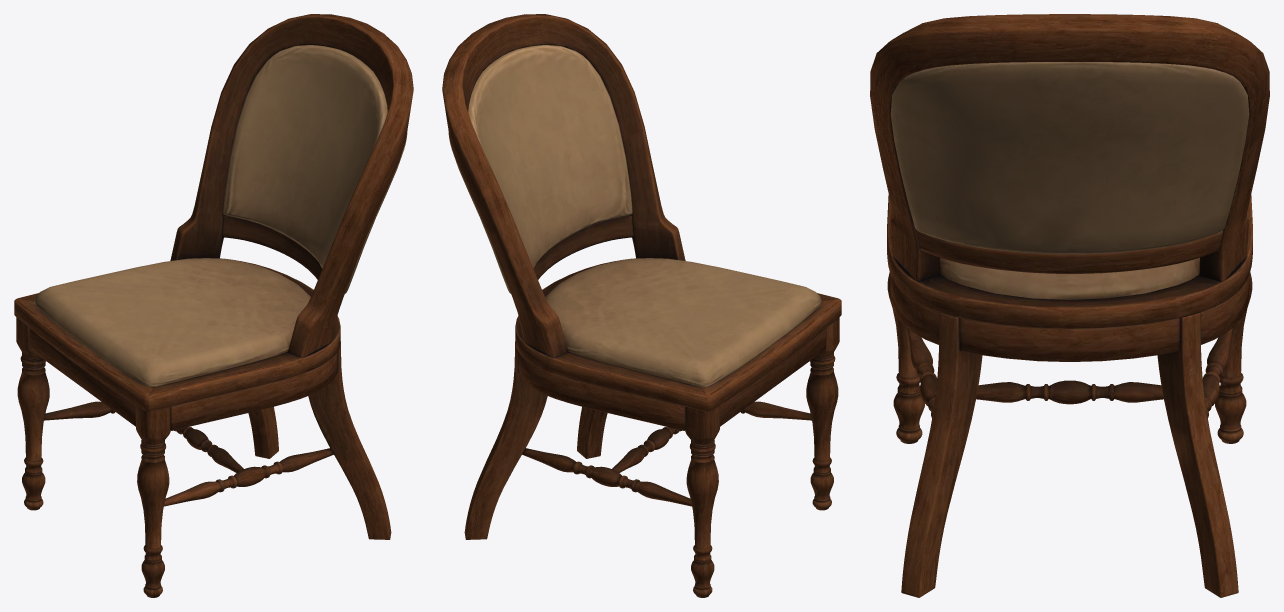
File: salon-chair.glb
3 views of the same model, side by side, from view 1: azimuth 30°, elevation 25°; view 2: azimuth 150°, elevation 25°; view 3: azimuth 270°, elevation 25° (orthographic). The views are drawn at different scales.
Visible parts, largest first — view 1: Chair_Chair_0; view 2: Chair_Chair_0; view 3: Chair_Chair_0.
Part boxes in pixels (x1,y1,x2,y2): Chair_Chair_0: (14, 14, 413, 597); Chair_Chair_0: (442, 14, 841, 597); Chair_Chair_0: (870, 14, 1269, 597).
Bounding box in the file's own units: 0.6988 × 0.9756 × 0.5827.
Materials: 1 (1 with a texture image).
